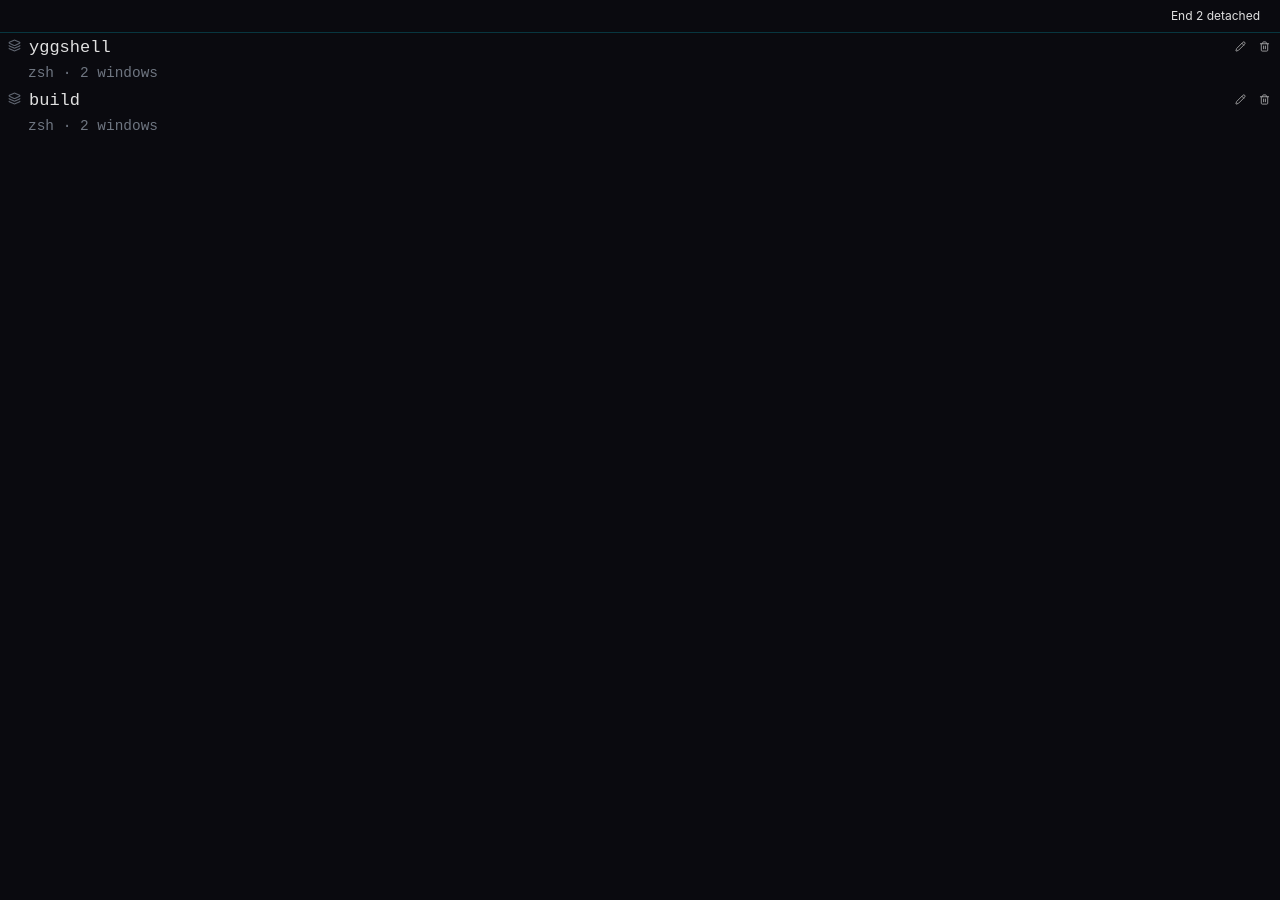
it: TmuxTool › ends nothing when the question is dismissed
Step 1. Click the button named "End build" → (1264, 100), box [1256,92,1272,108]
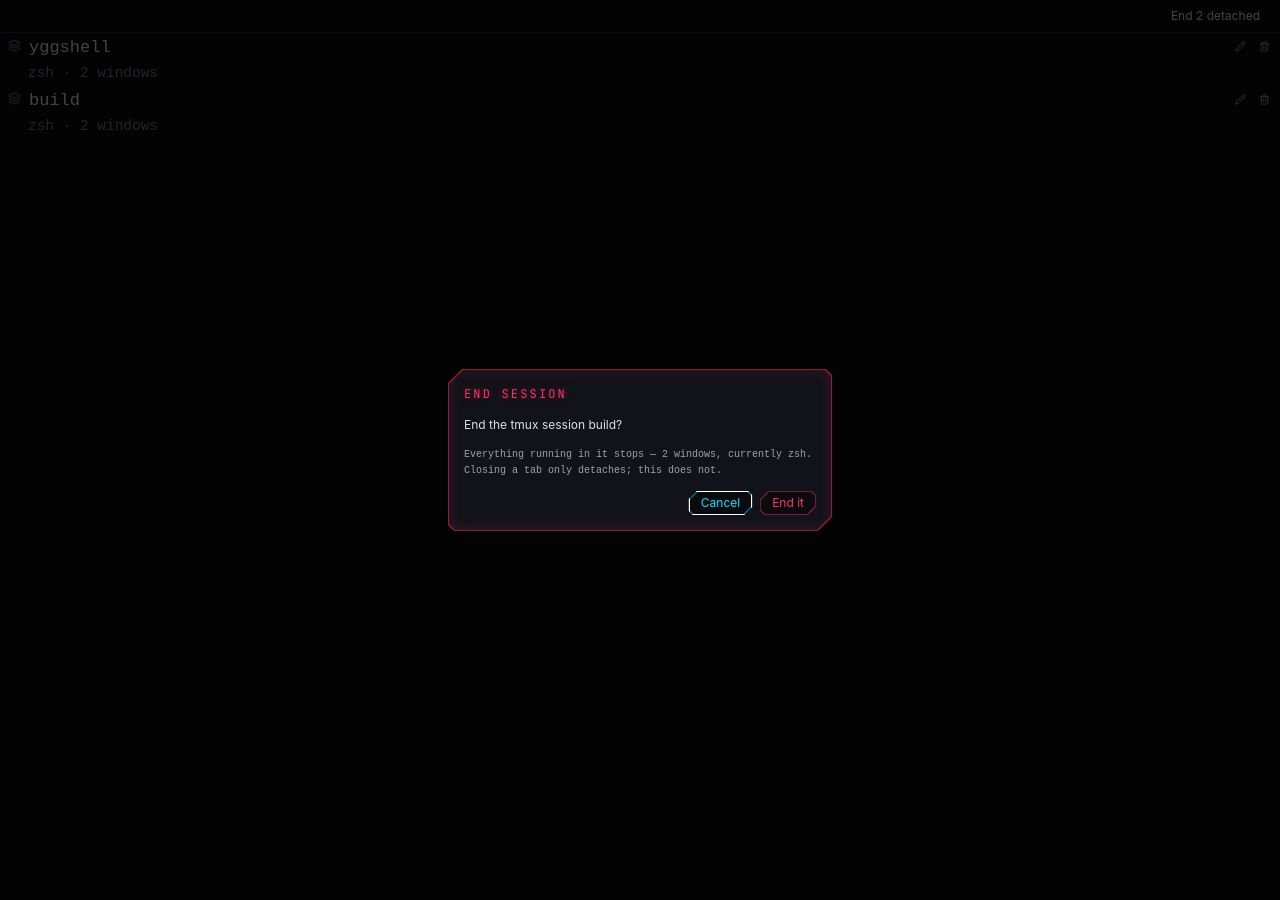
Step 2. Press Escape
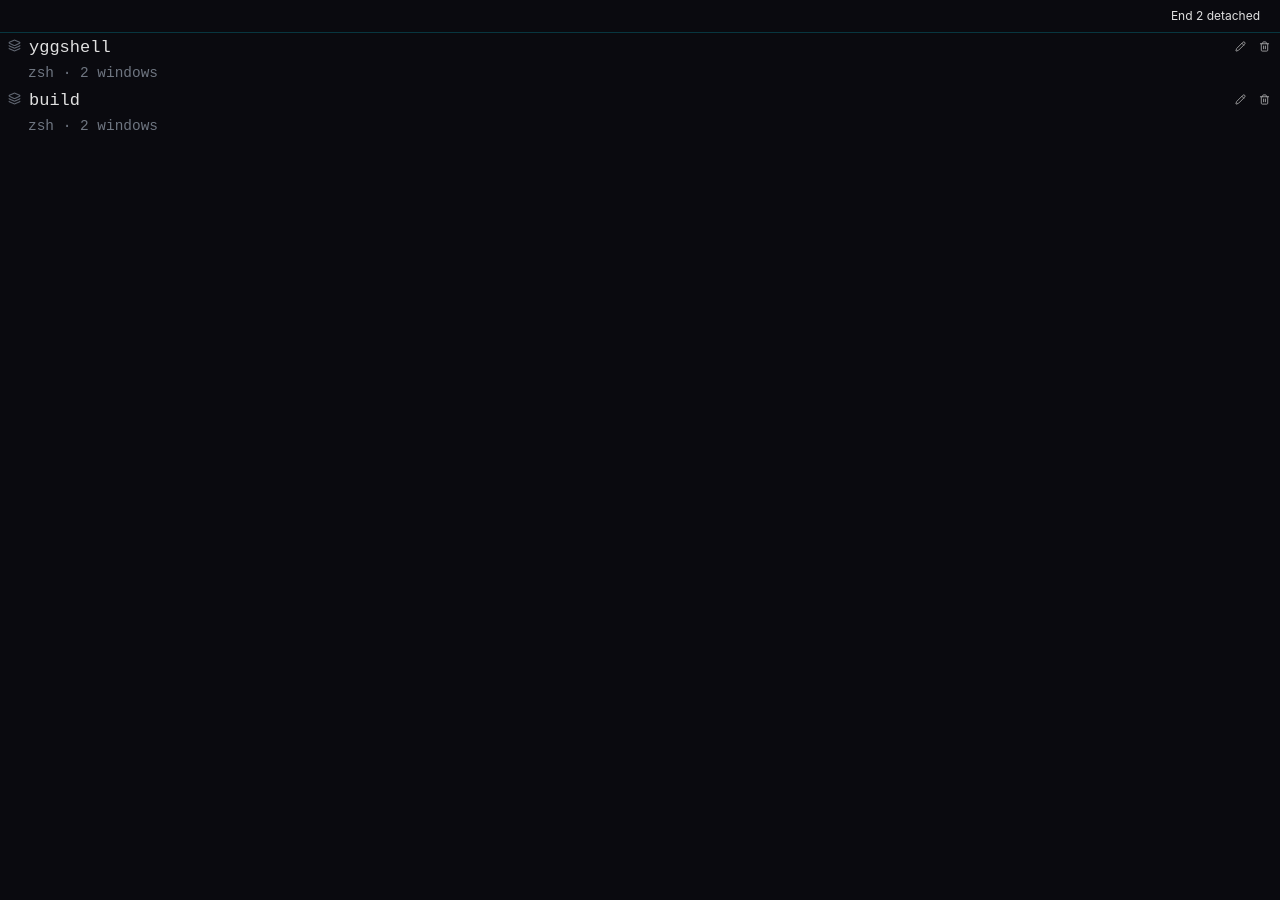
Result: the dialog is gone
